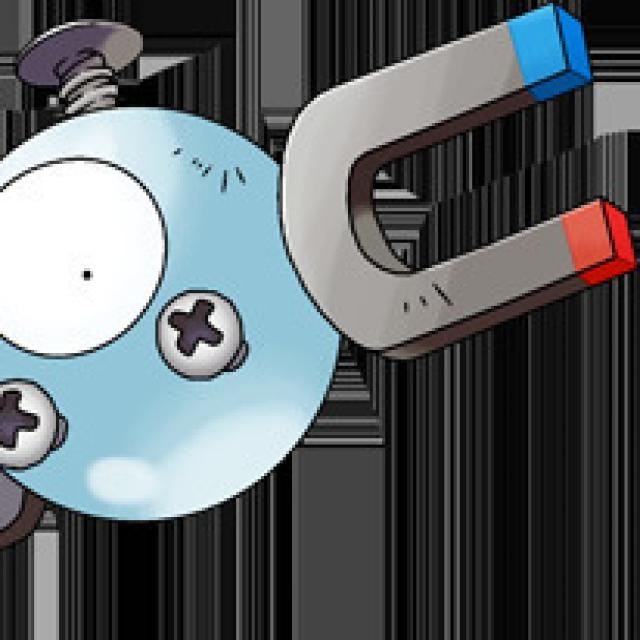Magnemite: (0, 20, 617, 529)
